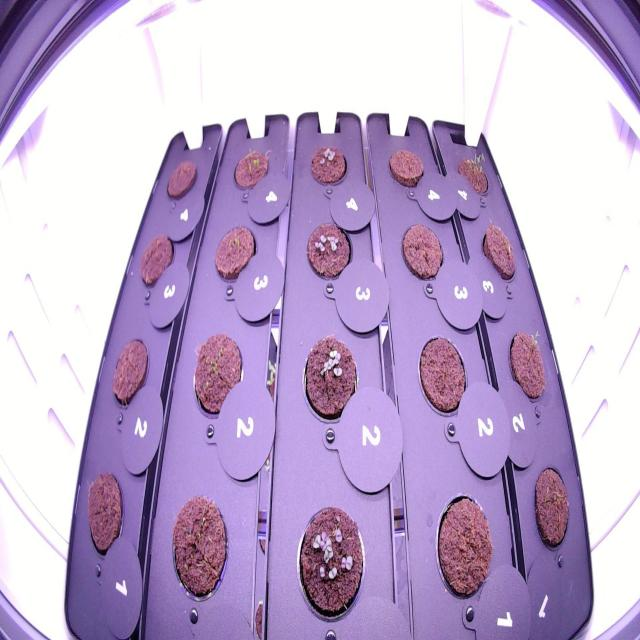germination: (291, 500, 369, 626), (294, 327, 365, 431), (505, 323, 552, 415), (300, 216, 356, 285), (476, 210, 520, 293), (304, 140, 354, 194), (229, 143, 273, 200), (451, 144, 492, 203)
pod: (165, 490, 231, 617), (430, 485, 496, 609), (186, 326, 248, 426), (411, 329, 471, 427), (79, 462, 127, 566), (206, 214, 264, 294), (528, 458, 572, 560), (396, 216, 446, 288), (106, 329, 151, 408), (134, 227, 178, 298), (382, 140, 428, 197), (160, 150, 202, 205)
